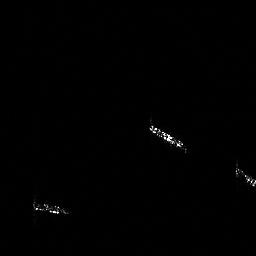ship: (144, 118, 191, 157), (28, 195, 73, 217), (230, 160, 256, 191)
